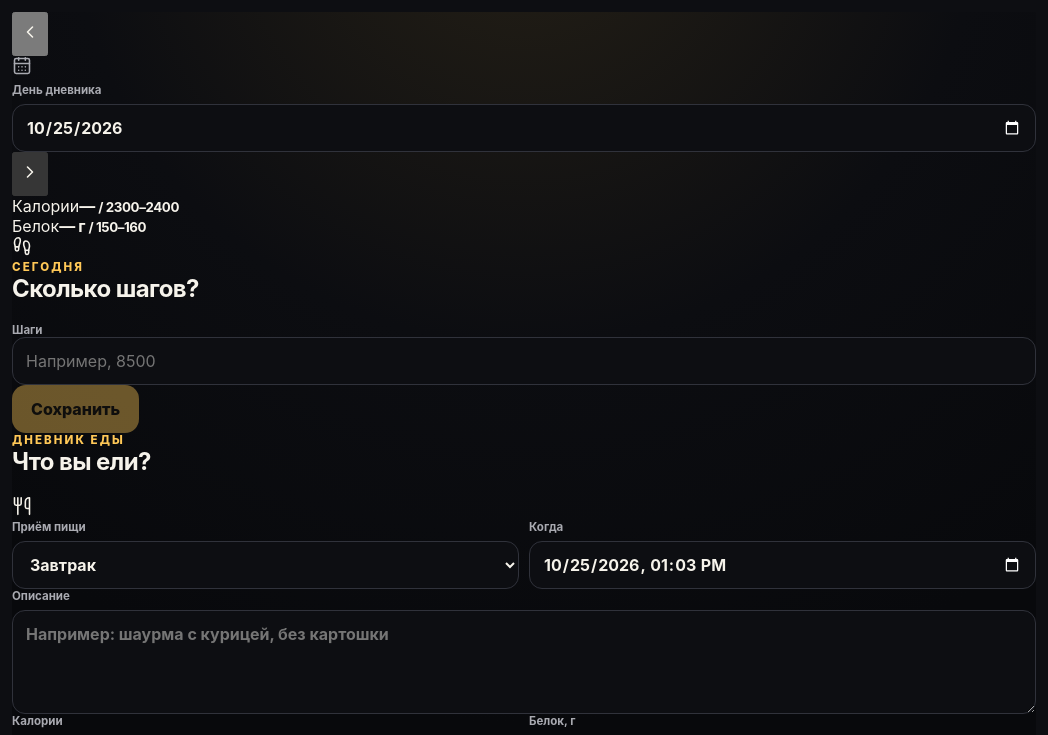
nutrition journal › ignores an older day response after the new day has already loaded
What coordinates should you click on to do the following:
click the button named "Предыдущий день"
I would click on:
 (30, 34)
Its box is [12,12,48,56].
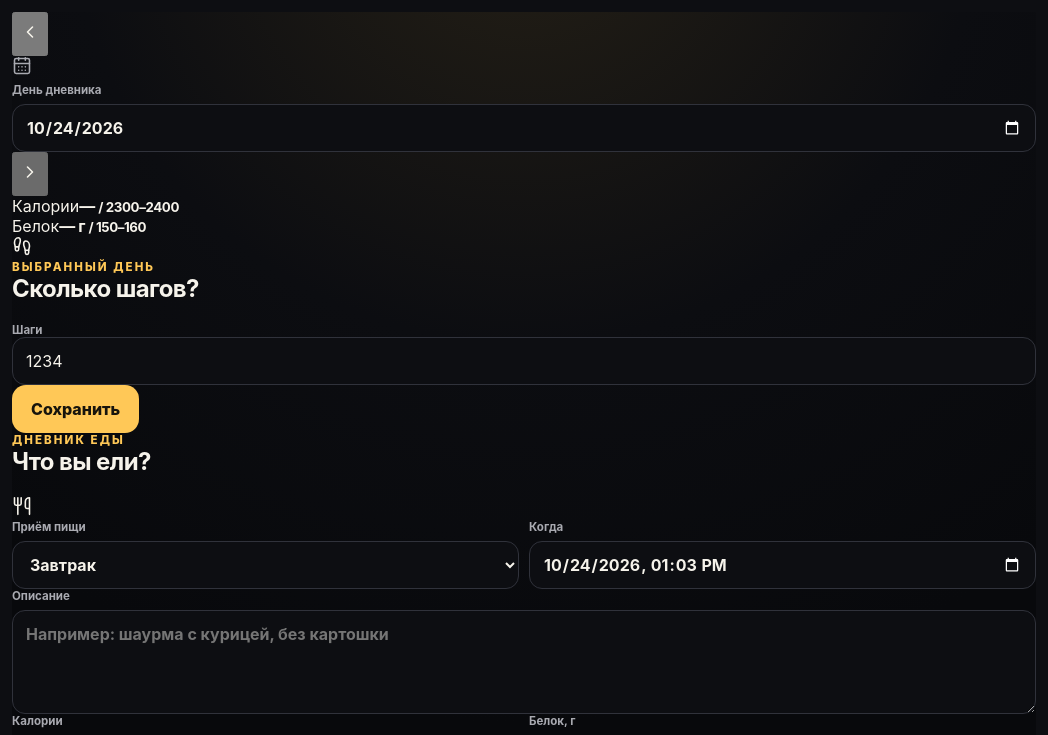
Result: the number field labelled "Шаги" holds "1234" at [12,337,1036,385]
